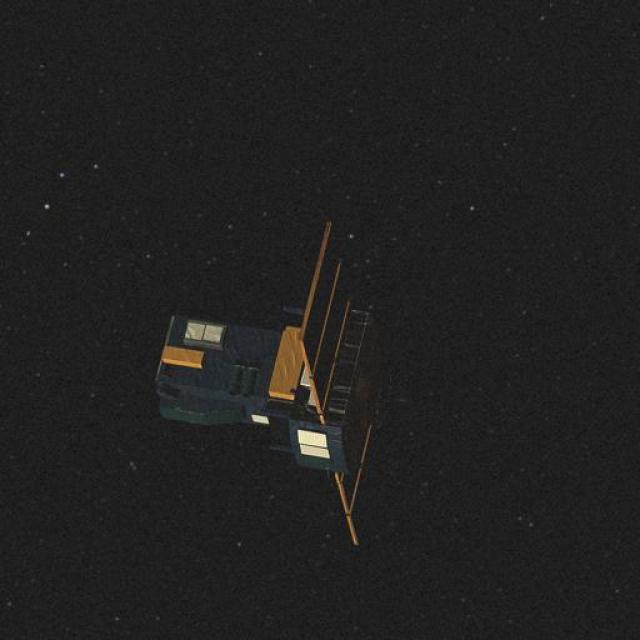soho: (160, 250, 420, 560)
